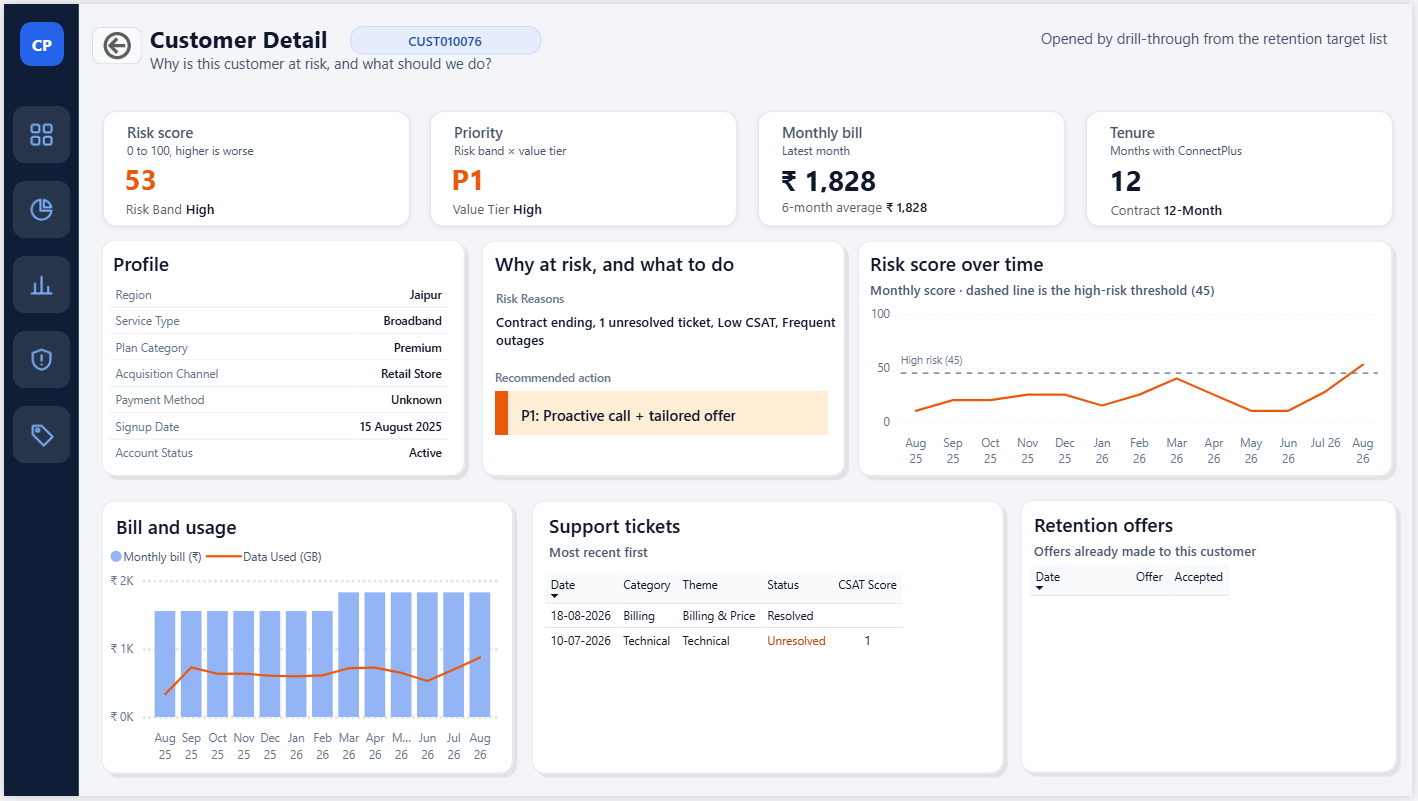

What the dashboard file says about the page in this screenshot:
{"tool":"powerbi","page":{"name":"Customer Detail","canvas":[1280,720],"ordinal":5},"visuals":[{"type":"group","id":"g1","title":"Group 3","box":[0,0,68,720],"z":0},{"type":"shape","box":[0,0,68,720],"z":0,"group":"g1"},{"type":"group","id":"g2","title":"Group 8","box":[82.8,208,341.9,226.8],"z":0,"group":"g43"},{"type":"group","id":"g3","title":"Group 6","box":[428,209,342,226],"z":0,"group":"g27"},{"type":"group","id":"g4","title":"Group 8","box":[428,209,342,226],"z":0,"group":"g44"},{"type":"group","id":"g5","title":"Group 15","box":[770,209,498,226],"z":0,"group":"g30"},{"type":"group","id":"g6","title":"Group 6","box":[770,209,498,226],"z":0,"group":"g5"},{"type":"group","id":"g7","title":"Group 8","box":[770,209,498,226],"z":0,"group":"g45"},{"type":"group","id":"g8","title":"Group 12","box":[446.1,351.2,302.7,40.2],"z":0,"group":"g36"},{"type":"shape","box":[446.1,351.3,302.7,40.1],"z":0,"group":"g8"},{"type":"group","id":"g9","title":"Group 15","box":[918.2,444.5,353.6,260],"z":0,"group":"g40"},{"type":"group","id":"g10","title":"Group 6","box":[918.2,444.5,353.6,260],"z":0,"group":"g9"},{"type":"group","id":"g11","title":"Group 8","box":[918.2,444.5,353.6,260],"z":0,"group":"g47"},{"type":"group","id":"g12","title":"Group 15","box":[83,445,386,260],"z":0,"group":"g41"},{"type":"group","id":"g13","title":"Group 6","box":[83,445,386,260],"z":0,"group":"g12"},{"type":"group","id":"g14","title":"Group 8","box":[83,445,386,260],"z":0,"group":"g48"},{"type":"group","id":"g15","title":"Group 15","box":[473.6,445.5,440.9,260],"z":0,"group":"g39"},{"type":"group","id":"g16","title":"Group 6","box":[473.6,445.5,440.9,260],"z":0,"group":"g15"},{"type":"group","id":"g17","title":"Group 8","box":[473.6,445.5,440.9,260],"z":0,"group":"g49"},{"type":"shape","box":[14,16,40,40],"z":1000,"group":"g24"},{"type":"group","id":"g18","title":"Group 5","box":[132.3,17.7,445.8,48.3],"z":1000},{"type":"textbox","title":"Customer Detail","box":[132.3,17.7,328.2,30],"z":1000,"group":"g18"},{"type":"lineChart","fields":{"Category":["Dim_Date.month_start_date"],"Y":["_Measures.Monthly Risk Score"]},"box":[787.3,272.7,463.6,150.9],"z":1000,"group":"g30"},{"type":"shape","box":[446.2,351.2,11.8,40.1],"z":1000,"group":"g8"},{"type":"cardVisual","fields":{"Data":["_Measures.Cust Recommended Action"]},"box":[469.4,351.4,279.5,40.6],"z":1000,"group":"g36"},{"type":"actionButton","box":[80,20.8,45.4,33.8],"z":2000},{"type":"textbox","title":"Why is this customer at risk, and what should we do?","box":[132.3,46,445.8,20],"z":2000,"group":"g18"},{"type":"actionButton","box":[8,92,52,52],"z":2000,"group":"g23"},{"type":"cardVisual","fields":{"Data":["_Measures.Selected Customer ID"]},"box":[314.4,20.2,173.8,26.2],"z":3000,"group":"g18"},{"type":"group","id":"g19","title":"Group 4","box":[90,97,279,112.8],"z":3000},{"type":"actionButton","box":[8,160.2,52,52],"z":3000,"group":"g23"},{"type":"shape","box":[82.8,208,341.9,226.8],"z":3000,"group":"g2"},{"type":"shape","box":[428,209,342,226],"z":3000,"group":"g4"},{"type":"shape","box":[770,209,498,226],"z":3000,"group":"g7"},{"type":"textbox","title":"Profile","box":[99.2,223.2,83.7,24.7],"z":3000,"group":"g43"},{"type":"textbox","title":"Why at risk, and what to do","box":[445.8,223.3,241.7,22.8],"z":3000,"group":"g44"},{"type":"textbox","title":"Risk score over time","box":[787.3,223.5,352.6,46.5],"z":3000,"group":"g45"},{"type":"shape","box":[918.2,444.5,353.6,260],"z":3000,"group":"g11"},{"type":"shape","box":[83,445,386,260],"z":3000,"group":"g14"},{"type":"shape","box":[473.6,445.5,440.9,260],"z":3000,"group":"g17"},{"type":"textbox","title":"Retention offers","box":[936.2,461.3,224.5,48.2],"z":3000,"group":"g47"},{"type":"textbox","title":"Support tickets","box":[495.7,461.5,154.7,48.2],"z":3000,"group":"g49"},{"type":"textbox","title":"Bill and usage","box":[102.2,462.7,125.4,25.4],"z":3000,"group":"g48"},{"type":"group","id":"g20","title":"Group 4","box":[387.7,97.1,279.3,112.9],"z":4000},{"type":"actionButton","box":[8,228.5,52,52],"z":4000,"group":"g23"},{"type":"textbox","title":"Risk Reasons","box":[447.3,260.3,82,20.1],"z":4000,"group":"g35"},{"type":"group","id":"g21","title":"Group 4","box":[685.7,97.1,279,107.6],"z":5000},{"type":"actionButton","box":[8,296.8,52,52],"z":5000,"group":"g23"},{"type":"group","id":"g22","title":"Group 4","box":[983.8,96.9,279,112.9],"z":6000},{"type":"actionButton","box":[8,365,52,52],"z":6000,"group":"g23"},{"type":"group","id":"g23","title":"Group 1","box":[8,92,52,325],"z":6001,"group":"g24"},{"type":"group","id":"g24","title":"Group 2","box":[8,16,52,401],"z":6002,"group":"g1"},{"type":"textbox","title":"Opened by drill-through from the retention target list","box":[942.3,23.1,315.4,20],"z":7000},{"type":"group","id":"g25","title":"Group 7","box":[82.8,208,341.9,226.8],"z":8000},{"type":"group","id":"g26","title":"Group 6","box":[82.8,208,341.9,226.8],"z":8000,"group":"g25"},{"type":"group","id":"g27","title":"Group 15","box":[428,209,342,226],"z":9000},{"type":"group","id":"g28","title":"Group 10","box":[82.8,208,341.9,226.8],"z":10000,"group":"g26"},{"type":"group","id":"g29","title":"Group 10","box":[428,209,342,226],"z":10000,"group":"g3"},{"type":"group","id":"g30","title":"Group 16","box":[770,209,498,226],"z":10000},{"type":"group","id":"g31","title":"Group 10","box":[770,209,498,226],"z":10000,"group":"g6"},{"type":"pivotTable","fields":{"Values":["Min(Customer_Priority.region_name)","Min(Customer_Priority.service_type)","Min(Customer_Priority.plan_category)","Min(Customer_Priority.acquisition_channel)","Min(Customer_Priority.payment_method)","Min(Dim_Customers.signup_date)","Min(Dim_Customers.account_status)"]},"box":[96.8,220.8,320,200],"z":10000,"group":"g25"},{"type":"group","id":"g32","title":"Group 10","box":[918.2,444.5,353.6,260],"z":10000,"group":"g10"},{"type":"group","id":"g33","title":"Group 10","box":[83,445,386,260],"z":10000,"group":"g13"},{"type":"group","id":"g34","title":"Group 10","box":[473.6,445.5,440.9,260],"z":10000,"group":"g16"},{"type":"cardVisual","fields":{"Data":["_Measures.Cust Risk Reasons"]},"box":[447,270,309,51.2],"z":10001,"group":"g35"},{"type":"textbox","title":"Recommended action","box":[446.1,331.3,119.3,20.1],"z":10002,"group":"g37"},{"type":"group","id":"g35","title":"Group 11","box":[447,260.3,309.1,61],"z":10003,"group":"g27"},{"type":"group","id":"g36","title":"Group 13","box":[446.1,351.2,302.8,40.8],"z":10009,"group":"g37"},{"type":"group","id":"g37","title":"Group 14","box":[446.1,331.3,302.8,60.8],"z":10010,"group":"g27"},{"type":"group","id":"g38","title":"Group 17","box":[83,445,386,260],"z":11000},{"type":"group","id":"g39","title":"Group 16","box":[473.6,445.5,440.9,260],"z":11000,"group":"g42"},{"type":"group","id":"g40","title":"Group 16","box":[918.2,444.5,353.6,260],"z":12000,"group":"g46"},{"type":"group","id":"g41","title":"Group 16","box":[83,445,386,260],"z":12000,"group":"g38"},{"type":"group","id":"g42","title":"Group 18","box":[473.6,445.5,440.9,260],"z":12000},{"type":"group","id":"g43","title":"Group 9","box":[82.8,208,341.9,226.8],"z":13000,"group":"g28"},{"type":"group","id":"g44","title":"Group 9","box":[428,209,342,226],"z":13000,"group":"g29"},{"type":"group","id":"g45","title":"Group 9","box":[770,209,498,226],"z":13000,"group":"g31"},{"type":"group","id":"g46","title":"Group 17","box":[918.2,444.5,353.6,260],"z":13000,"group":"g50"},{"type":"group","id":"g47","title":"Group 9","box":[918.2,444.5,353.6,260],"z":13000,"group":"g32"},{"type":"group","id":"g48","title":"Group 9","box":[83,445,386,260],"z":13000,"group":"g33"},{"type":"group","id":"g49","title":"Group 9","box":[473.6,445.5,440.9,260],"z":13000,"group":"g34"},{"type":"lineClusteredColumnComboChart","fields":{"Category":["Dim_Date.month_start_date"],"Y":["_Measures.Revenue"],"Y2":["_Measures.Data Used (GB)"]},"box":[96.4,488.2,355.5,203.6],"z":13000,"group":"g38"},{"type":"tableEx","fields":{"Values":["Fact_Support_Ticket.created_datetime","Fact_Support_Ticket.ticket_category","Fact_Support_Ticket.complaint_theme","Fact_Support_Ticket.resolution_status","Fact_Support_Ticket.csat_score"]},"box":[490.7,516.6,412.7,187.3],"z":13000,"group":"g42"},{"type":"tableEx","fields":{"Values":["Fact_Retention_Offer.offer_date","Dim_Offers.offer_name","_Measures.Offer Accepted"]},"box":[931.8,509,330.9,182.7],"z":14000,"group":"g50"},{"type":"group","id":"g50","title":"Group 19","box":[918.2,444.5,353.6,260],"z":14001},{"type":"shape","box":[983.8,96.9,279,104.6],"z":16000,"group":"g22"},{"type":"shape","box":[90,97,279,104.6],"z":16000,"group":"g19"},{"type":"shape","box":[387.7,97.1,279,104.6],"z":16000,"group":"g20"},{"type":"shape","box":[685.7,97.1,279,104.6],"z":16000,"group":"g21"},{"type":"cardVisual","fields":{"Data":["_Measures.Cust Risk Score"]},"box":[93.9,135.3,135.6,74.4],"z":17000,"group":"g19"},{"type":"cardVisual","fields":{"Data":["_Measures.Cust Priority"]},"box":[391.6,135.4,135.6,74.4],"z":17000,"group":"g20"},{"type":"cardVisual","fields":{"Data":["_Measures.Cust Tenure Months"]},"box":[989,135.6,195,74.3],"z":17000,"group":"g22"},{"type":"cardVisual","fields":{"Data":["_Measures.Cust Monthly Bill"]},"box":[690.6,138.5,178.1,66.2],"z":17000,"group":"g21"},{"type":"textbox","title":"Tenure","box":[1006,107.5,143.3,31.7],"z":19000,"group":"g22"},{"type":"textbox","title":"Risk score","box":[112.2,107.6,143.3,31.7],"z":19000,"group":"g19"},{"type":"textbox","title":"Priority","box":[409.9,107.7,143.3,31.7],"z":19000,"group":"g20"},{"type":"textbox","title":"Monthly bill","box":[707.9,107.7,143.3,31.7],"z":19000,"group":"g21"}]}

Visuals, with their boxes on the page's 1280x720 design canvas (x1, y1, x2, y2). These are canvas units, not pixel positions in the 1418x801 screenshot, which may show the page scaled, cropped or inside an application window:
"Group 3" group: (0,0,68,720)
shape: (0,0,68,720)
"Group 8" group: (83,208,425,435)
"Group 6" group: (428,209,770,435)
"Group 8" group: (428,209,770,435)
"Group 15" group: (770,209,1268,435)
"Group 6" group: (770,209,1268,435)
"Group 8" group: (770,209,1268,435)
"Group 12" group: (446,351,749,391)
shape: (446,351,749,391)
"Group 15" group: (918,444,1272,704)
"Group 6" group: (918,444,1272,704)
"Group 8" group: (918,444,1272,704)
"Group 15" group: (83,445,469,705)
"Group 6" group: (83,445,469,705)
"Group 8" group: (83,445,469,705)
"Group 15" group: (474,446,914,706)
"Group 6" group: (474,446,914,706)
"Group 8" group: (474,446,914,706)
shape: (14,16,54,56)
"Group 5" group: (132,18,578,66)
"Customer Detail" textbox: (132,18,460,48)
lineChart - Dim_Date.month_start_date x _Measures.Monthly Risk Score: (787,273,1251,424)
shape: (446,351,458,391)
cardVisual - _Measures.Cust Recommended Action: (469,351,749,392)
actionButton: (80,21,125,55)
"Why is this customer at risk, and what should we do?" textbox: (132,46,578,66)
actionButton: (8,92,60,144)
cardVisual - _Measures.Selected Customer ID: (314,20,488,46)
"Group 4" group: (90,97,369,210)
actionButton: (8,160,60,212)
shape: (83,208,425,435)
shape: (428,209,770,435)
shape: (770,209,1268,435)
"Profile" textbox: (99,223,183,248)
"Why at risk, and what to do" textbox: (446,223,688,246)
"Risk score over time" textbox: (787,224,1140,270)
shape: (918,444,1272,704)
shape: (83,445,469,705)
shape: (474,446,914,706)
"Retention offers" textbox: (936,461,1161,510)
"Support tickets" textbox: (496,462,650,510)
"Bill and usage" textbox: (102,463,228,488)
"Group 4" group: (388,97,667,210)
actionButton: (8,228,60,280)
"Risk Reasons" textbox: (447,260,529,280)
"Group 4" group: (686,97,965,205)
actionButton: (8,297,60,349)
"Group 4" group: (984,97,1263,210)
actionButton: (8,365,60,417)
"Group 1" group: (8,92,60,417)
"Group 2" group: (8,16,60,417)
"Opened by drill-through from the retention target list" textbox: (942,23,1258,43)
"Group 7" group: (83,208,425,435)
"Group 6" group: (83,208,425,435)
"Group 15" group: (428,209,770,435)
"Group 10" group: (83,208,425,435)
"Group 10" group: (428,209,770,435)
"Group 16" group: (770,209,1268,435)
"Group 10" group: (770,209,1268,435)
pivotTable - Min(Customer_Priority.region_name) x Min(Customer_Priority.service_type): (97,221,417,421)
"Group 10" group: (918,444,1272,704)
"Group 10" group: (83,445,469,705)
"Group 10" group: (474,446,914,706)
cardVisual - _Measures.Cust Risk Reasons: (447,270,756,321)
"Recommended action" textbox: (446,331,565,351)
"Group 11" group: (447,260,756,321)
"Group 13" group: (446,351,749,392)
"Group 14" group: (446,331,749,392)
"Group 17" group: (83,445,469,705)
"Group 16" group: (474,446,914,706)
"Group 16" group: (918,444,1272,704)
"Group 16" group: (83,445,469,705)
"Group 18" group: (474,446,914,706)
"Group 9" group: (83,208,425,435)
"Group 9" group: (428,209,770,435)
"Group 9" group: (770,209,1268,435)
"Group 17" group: (918,444,1272,704)
"Group 9" group: (918,444,1272,704)
"Group 9" group: (83,445,469,705)
"Group 9" group: (474,446,914,706)
lineClusteredColumnComboChart - Dim_Date.month_start_date x _Measures.Revenue: (96,488,452,692)
tableEx - Fact_Support_Ticket.created_datetime x Fact_Support_Ticket.ticket_category: (491,517,903,704)
tableEx - Fact_Retention_Offer.offer_date x Dim_Offers.offer_name: (932,509,1263,692)
"Group 19" group: (918,444,1272,704)
shape: (984,97,1263,202)
shape: (90,97,369,202)
shape: (388,97,667,202)
shape: (686,97,965,202)
cardVisual - _Measures.Cust Risk Score: (94,135,230,210)
cardVisual - _Measures.Cust Priority: (392,135,527,210)
cardVisual - _Measures.Cust Tenure Months: (989,136,1184,210)
cardVisual - _Measures.Cust Monthly Bill: (691,138,869,205)
"Tenure" textbox: (1006,108,1149,139)
"Risk score" textbox: (112,108,256,139)
"Priority" textbox: (410,108,553,139)
"Monthly bill" textbox: (708,108,851,139)
